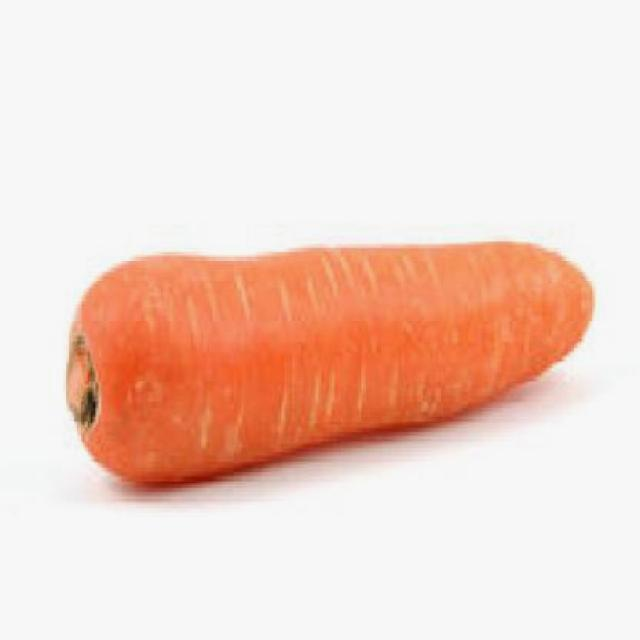carrot: (62, 237, 594, 497)
